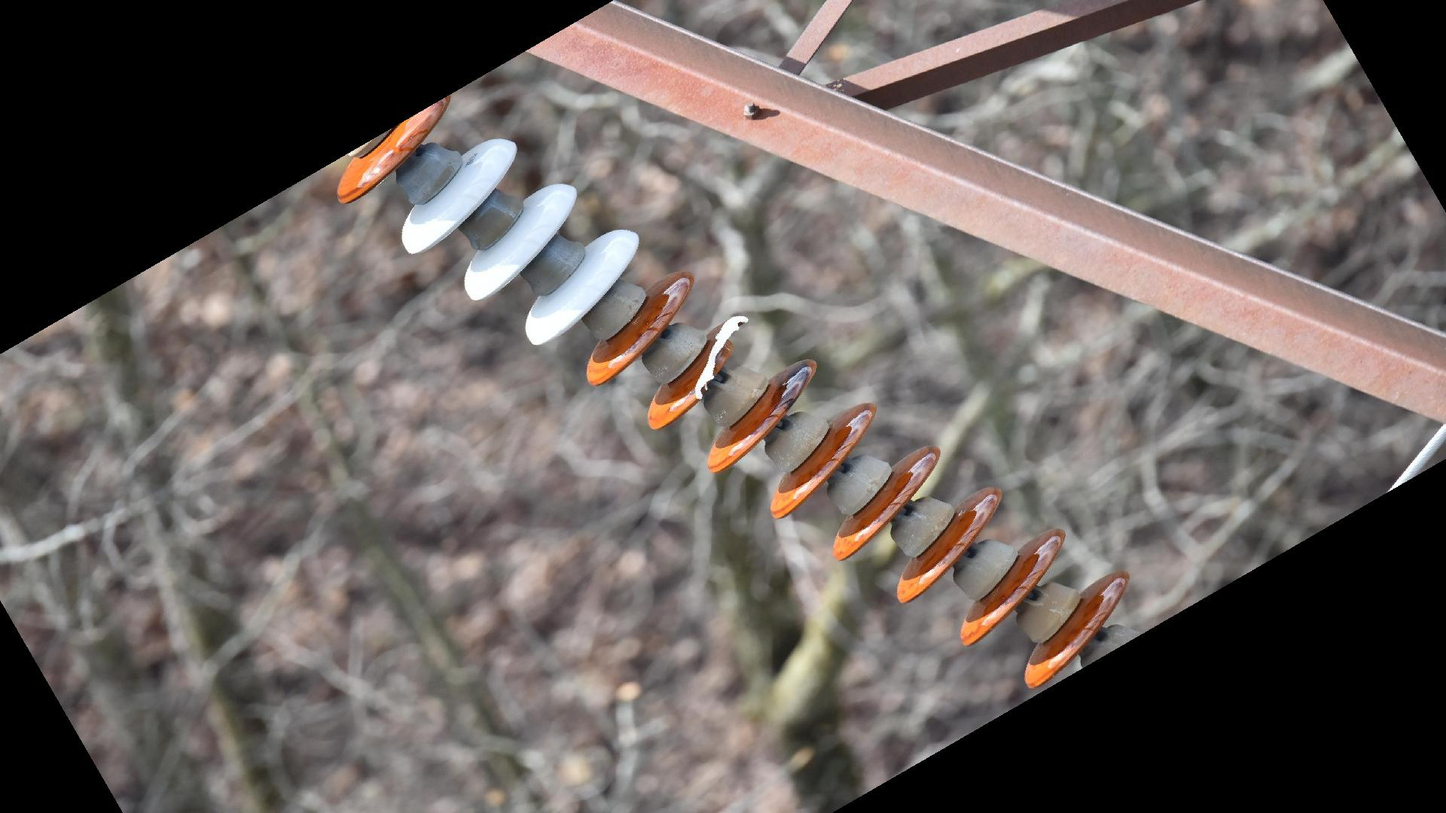insulator: (331, 88, 1136, 693)
insulator_breakage: (690, 311, 752, 405)
